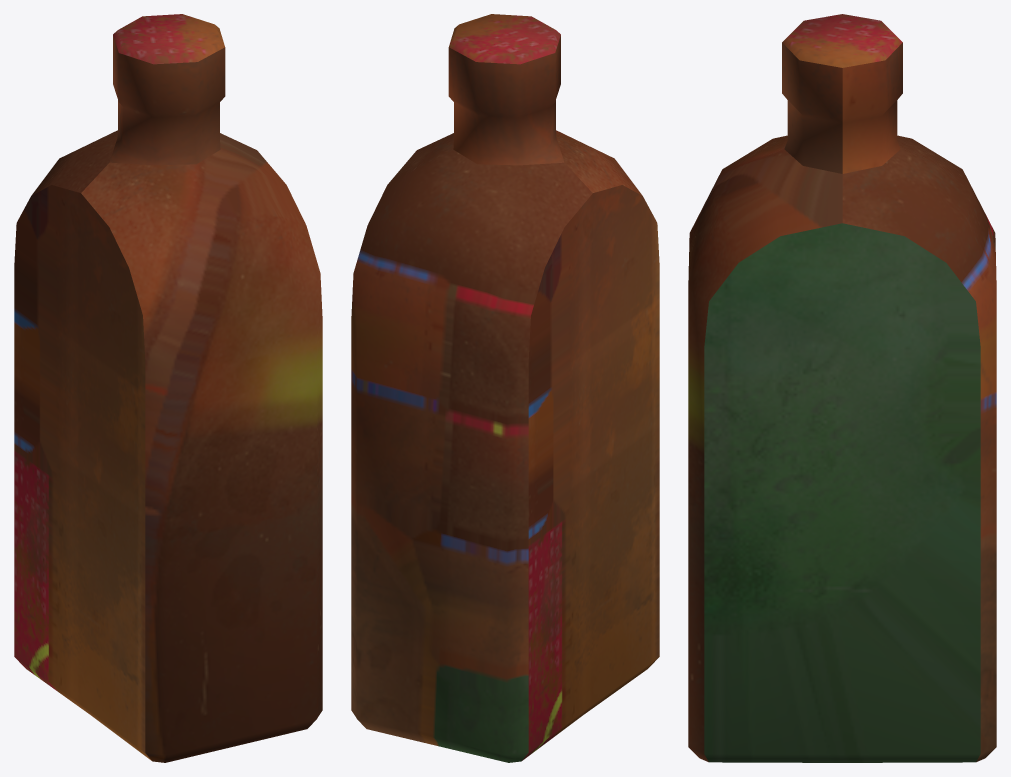
Rendered from SM_Bottle_05.fbx.
3 views of the same model, side by side, from view 1: azimuth 30°, elevation 25°; view 2: azimuth 150°, elevation 25°; view 3: azimuth 270°, elevation 25° (orthographic). The views are drawn at different scales.
Parts seen in each view (by area): view 1: SM_Bottle_05_LOD0; view 2: SM_Bottle_05_LOD0; view 3: SM_Bottle_05_LOD0.
Part boxes in pixels (<box>): SM_Bottle_05_LOD0: <box>14,14,322,762</box>; SM_Bottle_05_LOD0: <box>351,14,659,762</box>; SM_Bottle_05_LOD0: <box>688,14,996,762</box>.
Size of the model in its own units: 6.01 by 8.7 by 21.33.
